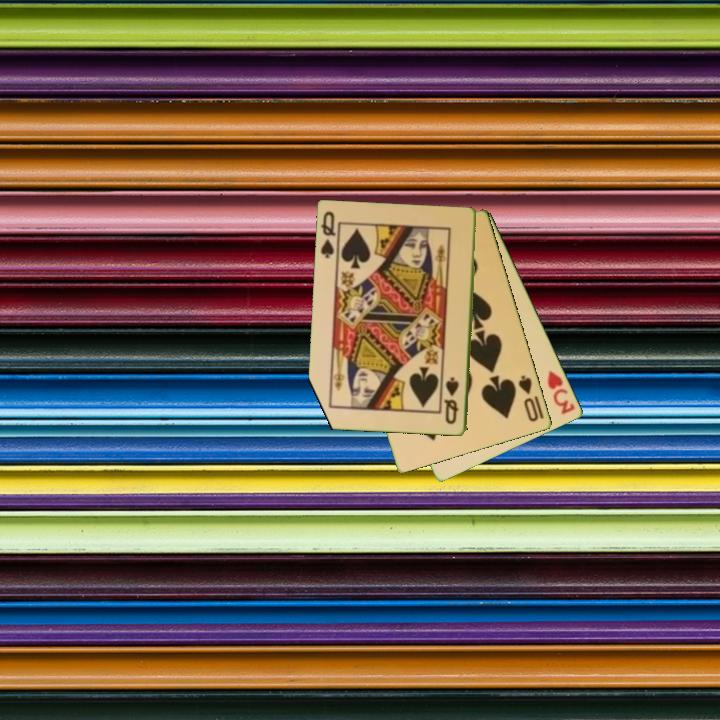10s: (515, 372, 542, 425)
3h: (544, 367, 578, 417)
Qs: (317, 208, 342, 263), (442, 374, 462, 427)
